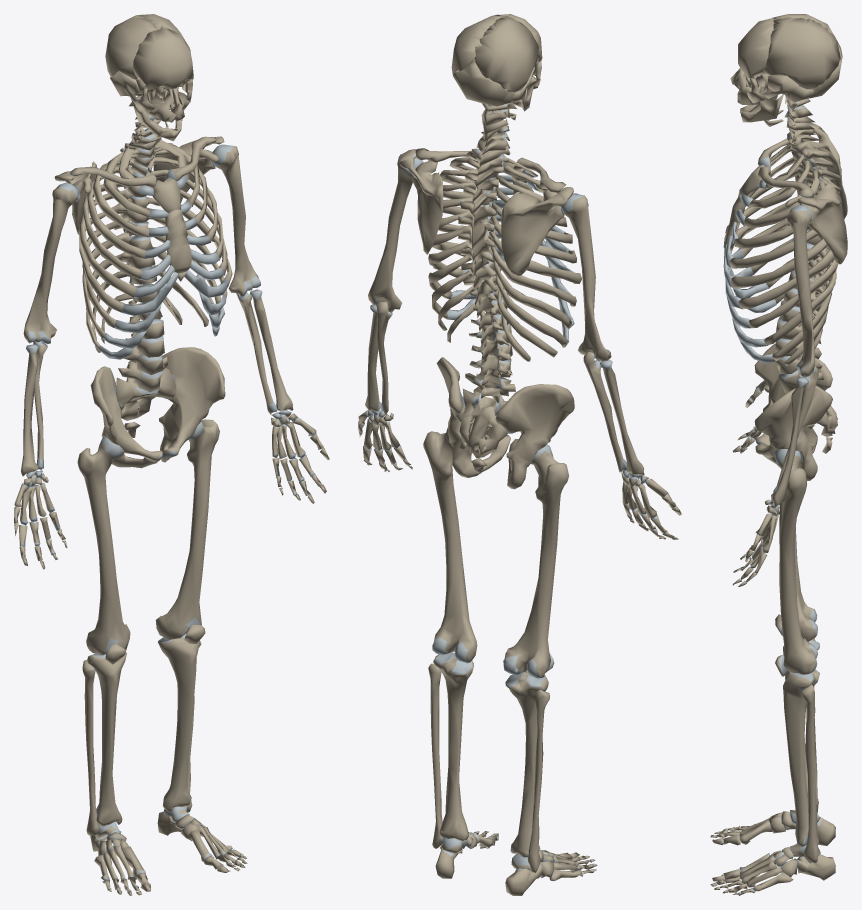
The model's file is adult_male.skeletal.LOD4.glb.
3 renders of one model, left to right at view 1: azimuth 30°, elevation 25°; view 2: azimuth 150°, elevation 25°; view 3: azimuth 270°, elevation 25°, orthographic. The views are drawn at different scales.
Visible parts, largest first — view 1: ADULT.MALE.SKELETAL.FEMUR.R, ADULT.MALE.SKELETAL.FEMUR.L, ADULT.MALE.SKELETAL.HIP_BONE.L, ADULT.MALE.SKELETAL.TIBIA.L, ADULT.MALE.SKELETAL.TIBIA.R, ADULT.MALE.SKELETAL.FRONTAL_BONE, ADULT.MALE.SKELETAL.HUMERUS.R, ADULT.MALE.SKELETAL.HUMERUS.L, ADULT.MALE.SKELETAL.HIP_BONE.R, ADULT.MALE.SKELETAL.PARIETAL_BONE.R, ADULT.MALE.SKELETAL.SACRUM, ADULT.MALE.SKELETAL.FIBULA.R (+19 smaller); view 2: ADULT.MALE.SKELETAL.FEMUR.R, ADULT.MALE.SKELETAL.FEMUR.L, ADULT.MALE.SKELETAL.HIP_BONE.R, ADULT.MALE.SKELETAL.SCAPULA.R, ADULT.MALE.SKELETAL.PARIETAL_BONE.R, ADULT.MALE.SKELETAL.TIBIA.L, ADULT.MALE.SKELETAL.TIBIA.R, ADULT.MALE.SKELETAL.HUMERUS.R, ADULT.MALE.SKELETAL.HUMERUS.L, ADULT.MALE.SKELETAL.HIP_BONE.L, ADULT.MALE.SKELETAL.SCAPULA.L, ADULT.MALE.SKELETAL.SACRUM (+15 smaller); view 3: ADULT.MALE.SKELETAL.FEMUR.L, ADULT.MALE.SKELETAL.PARIETAL_BONE.L, ADULT.MALE.SKELETAL.TIBIA.L, ADULT.MALE.SKELETAL.HIP_BONE.L, ADULT.MALE.SKELETAL.HUMERUS.L, ADULT.MALE.SKELETAL.SCAPULA.L, ADULT.MALE.SKELETAL.FIBULA.L, ADULT.MALE.SKELETAL.FRONTAL_BONE, ADULT.MALE.SKELETAL.HIP_BONE.R, ADULT.MALE.SKELETAL.RADIUS.L, ADULT.MALE.SKELETAL.FEMUR.R, ADULT.MALE.SKELETAL.SEVENTH_RIB.L (+29 smaller).
Part boxes in pixels (box(x1,y1,x2,y2)): ADULT.MALE.SKELETAL.FEMUR.R: box(77, 436, 130, 655); ADULT.MALE.SKELETAL.FEMUR.L: box(155, 419, 219, 639); ADULT.MALE.SKELETAL.HIP_BONE.L: box(159, 347, 225, 462); ADULT.MALE.SKELETAL.TIBIA.L: box(158, 633, 199, 812); ADULT.MALE.SKELETAL.TIBIA.R: box(87, 652, 126, 826); ADULT.MALE.SKELETAL.FRONTAL_BONE: box(133, 28, 193, 90); ADULT.MALE.SKELETAL.HUMERUS.R: box(23, 182, 78, 344); ADULT.MALE.SKELETAL.HUMERUS.L: box(212, 144, 260, 296); ADULT.MALE.SKELETAL.HIP_BONE.R: box(90, 366, 162, 468); ADULT.MALE.SKELETAL.PARIETAL_BONE.R: box(105, 15, 157, 79); ADULT.MALE.SKELETAL.SACRUM: box(116, 368, 175, 420); ADULT.MALE.SKELETAL.FIBULA.R: box(82, 660, 98, 835); ADULT.MALE.SKELETAL.FEMUR.R: box(503, 444, 568, 678); ADULT.MALE.SKELETAL.FEMUR.L: box(423, 427, 477, 663); ADULT.MALE.SKELETAL.HIP_BONE.R: box(495, 384, 574, 489); ADULT.MALE.SKELETAL.SCAPULA.R: box(501, 187, 573, 276); ADULT.MALE.SKELETAL.PARIETAL_BONE.R: box(474, 16, 538, 93); ADULT.MALE.SKELETAL.TIBIA.L: box(433, 652, 473, 840); ADULT.MALE.SKELETAL.TIBIA.R: box(505, 671, 548, 857); ADULT.MALE.SKELETAL.HUMERUS.R: box(561, 193, 611, 361); ADULT.MALE.SKELETAL.HUMERUS.L: box(368, 153, 423, 312); ADULT.MALE.SKELETAL.HIP_BONE.L: box(436, 357, 510, 477); ADULT.MALE.SKELETAL.SCAPULA.L: box(399, 149, 443, 254); ADULT.MALE.SKELETAL.SACRUM: box(459, 389, 507, 458); ADULT.MALE.SKELETAL.FEMUR.L: box(775, 449, 817, 674); ADULT.MALE.SKELETAL.PARIETAL_BONE.L: box(763, 17, 840, 89); ADULT.MALE.SKELETAL.TIBIA.L: box(783, 669, 819, 846); ADULT.MALE.SKELETAL.HIP_BONE.L: box(754, 386, 832, 480); ADULT.MALE.SKELETAL.HUMERUS.L: box(786, 205, 815, 377); ADULT.MALE.SKELETAL.SCAPULA.L: box(785, 183, 847, 264); ADULT.MALE.SKELETAL.FIBULA.L: box(800, 684, 818, 863); ADULT.MALE.SKELETAL.FRONTAL_BONE: box(738, 18, 773, 78); ADULT.MALE.SKELETAL.HIP_BONE.R: box(754, 343, 832, 453); ADULT.MALE.SKELETAL.RADIUS.L: box(771, 377, 808, 506); ADULT.MALE.SKELETAL.FEMUR.R: box(779, 501, 817, 641); ADULT.MALE.SKELETAL.SEVENTH_RIB.L: box(738, 249, 834, 308).
Size of the model in its own units: 0.6684 by 1.7 by 0.2502.
